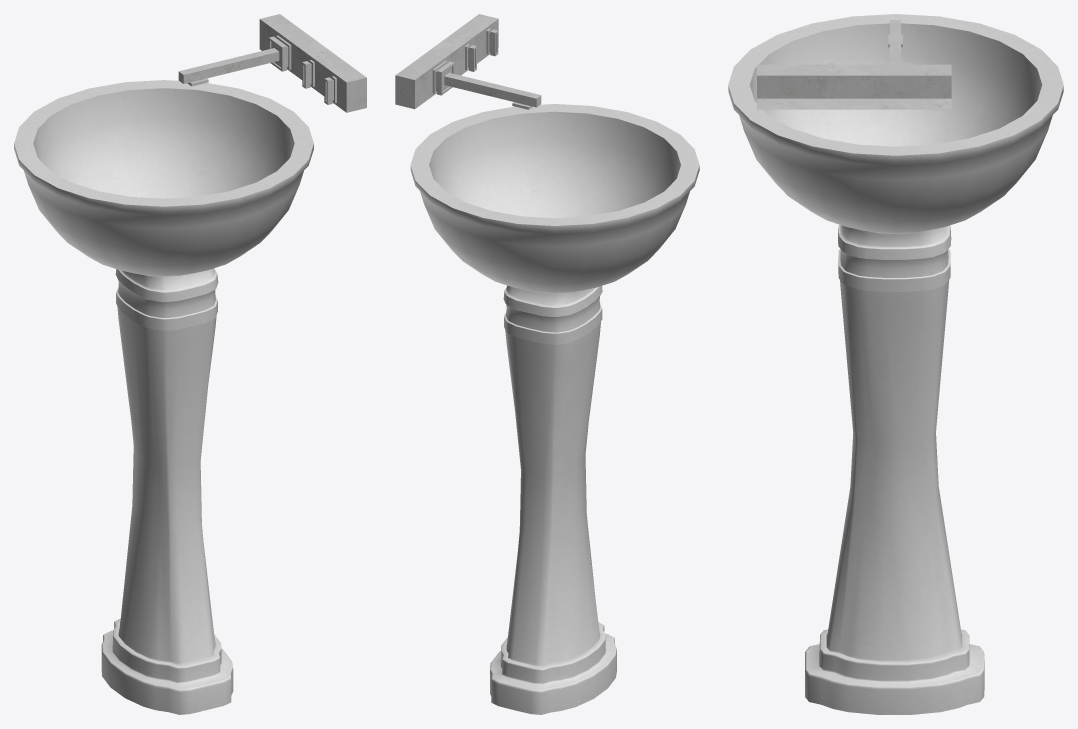
The model's file is SM_检查室_洗手池_01.fbx.
3 views of the same model, side by side, from view 1: azimuth 30°, elevation 25°; view 2: azimuth 150°, elevation 25°; view 3: azimuth 270°, elevation 25° (orthographic). The views are drawn at different scales.
Parts seen in each view (by area): view 1: SM_检查室_洗手池_01; view 2: SM_检查室_洗手池_01; view 3: SM_检查室_洗手池_01.
Part boxes in pixels (x1,y1,x2,y2): SM_检查室_洗手池_01: (14, 14, 366, 714); SM_检查室_洗手池_01: (395, 14, 699, 714); SM_检查室_洗手池_01: (728, 14, 1063, 714).
Bounding box in the file's own units: 467 × 1014 × 448.
